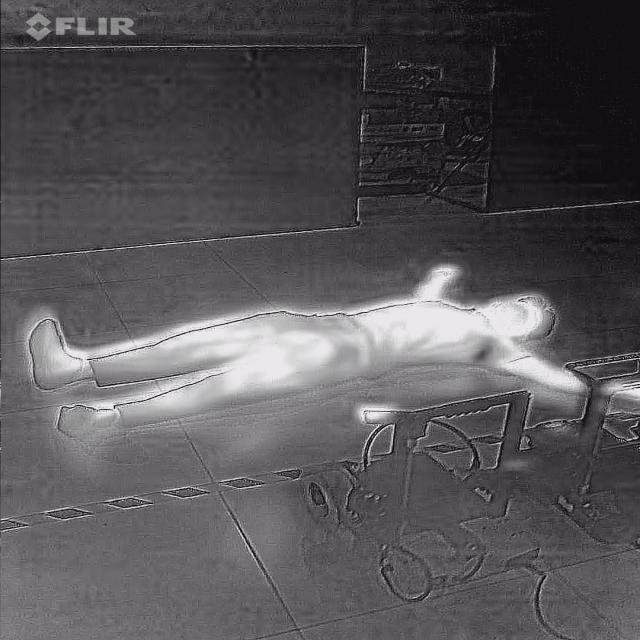Victim: (22, 256, 640, 443)
